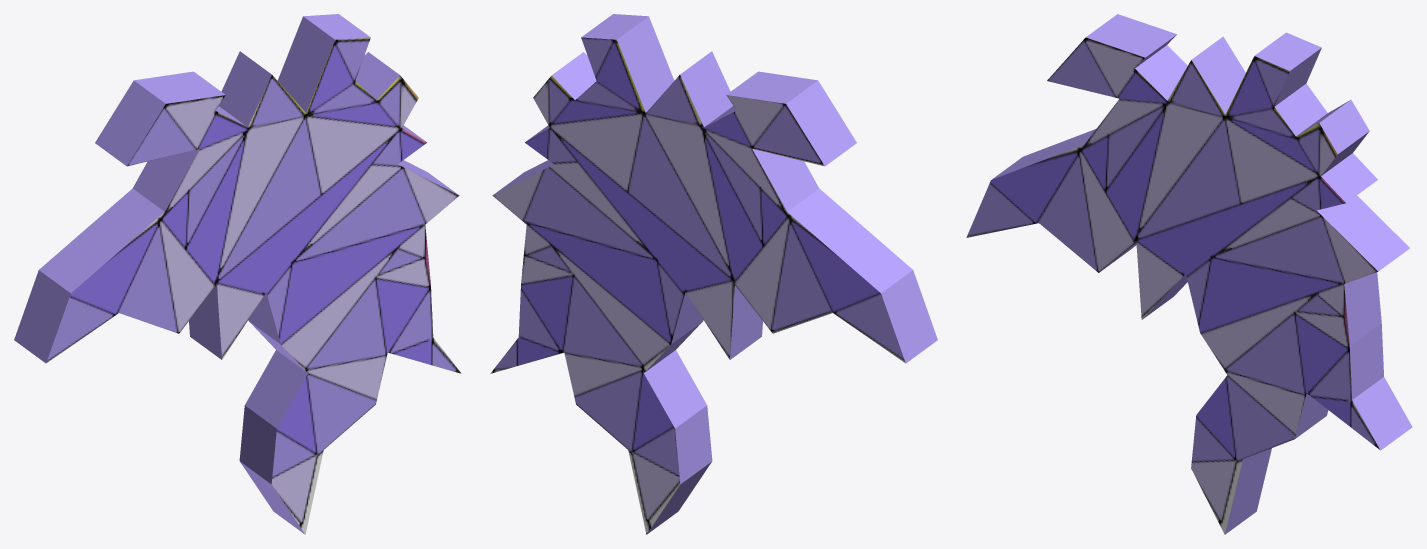
File: bottom left mosaic.FBX
The picture shows the model from 3 angles, left to right: view 1: azimuth 30°, elevation 25°; view 2: azimuth 150°, elevation 25°; view 3: azimuth 330°, elevation 25°; orthographic projection.
Visible parts, largest first — view 1: Line005; view 2: Line005; view 3: Line005.
Part boxes in pixels (x1,y1,x2,y2): Line005: [14, 14, 461, 534]; Line005: [490, 14, 937, 534]; Line005: [966, 14, 1412, 534].
Size of the model in its own units: 34.66 by 38.86 by 4.63.
